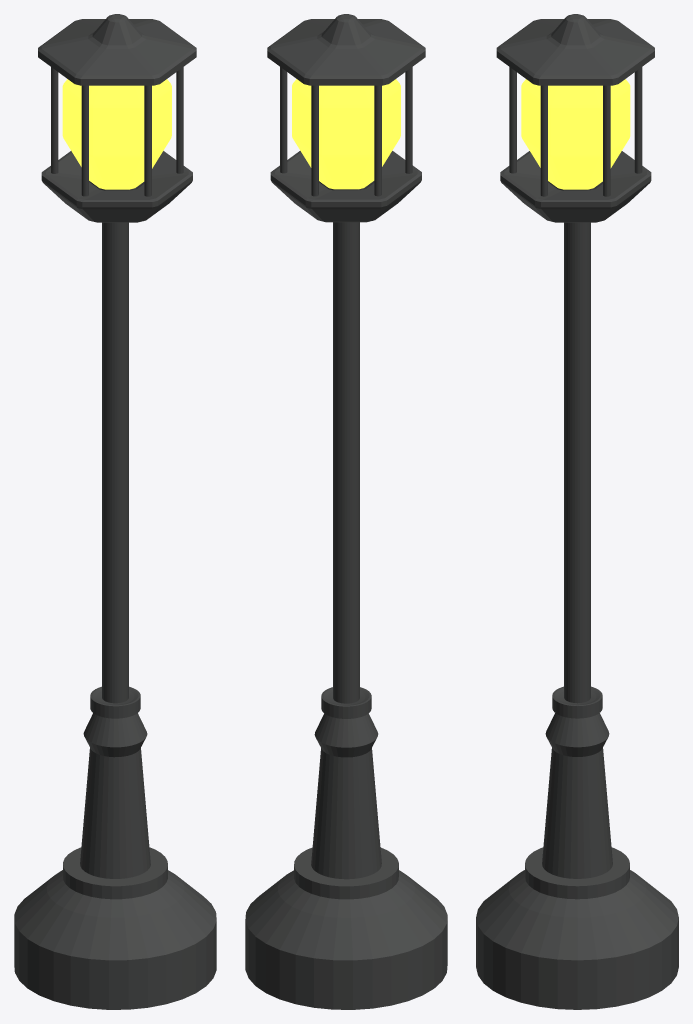
File: street lamp.fbx
The picture shows the model from 3 angles, left to right: view 1: azimuth 30°, elevation 25°; view 2: azimuth 150°, elevation 25°; view 3: azimuth 270°, elevation 25°; orthographic projection.
Parts seen in each view (by area): view 1: Cylinder, Circle; view 2: Cylinder, Circle; view 3: Cylinder, Circle.
Boxes of the visible parts, x1,y1,x2,y2 form: Cylinder: [14, 222, 216, 1009]; Circle: [38, 14, 196, 222]; Cylinder: [245, 222, 447, 1009]; Circle: [267, 14, 425, 222]; Cylinder: [476, 222, 678, 1009]; Circle: [496, 14, 654, 222].
Size of the model in its own units: 245 by 1266 by 245.
